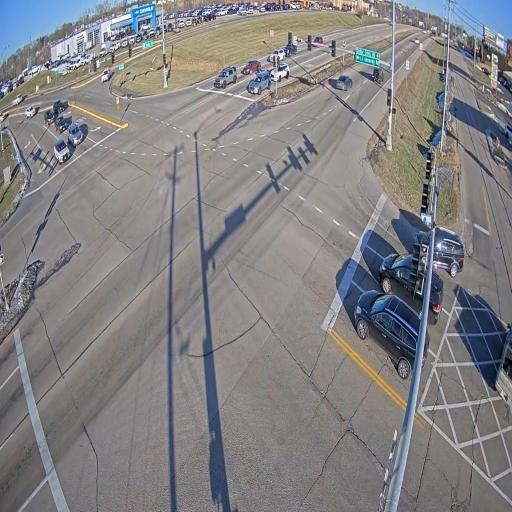pickup: (495, 324, 512, 411), (55, 116, 68, 134), (101, 68, 111, 82)
sedan: (241, 60, 261, 74), (335, 75, 352, 90), (45, 110, 54, 125), (415, 38, 419, 43)
suv: (355, 290, 420, 379), (433, 227, 464, 277), (247, 71, 270, 95), (214, 66, 237, 88), (268, 61, 289, 81), (413, 231, 430, 255), (54, 138, 70, 163), (68, 123, 84, 147), (267, 48, 285, 61), (53, 100, 67, 116), (372, 67, 383, 83), (284, 44, 297, 57), (25, 106, 36, 118), (13, 94, 23, 104), (313, 36, 323, 43)
van: (379, 254, 424, 316), (428, 272, 443, 324)
